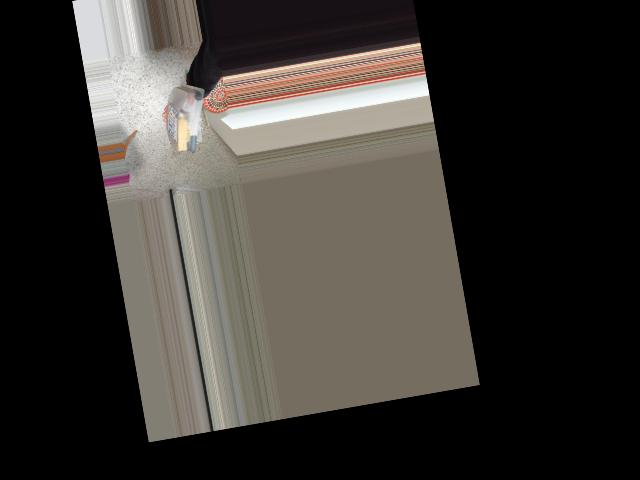cheese: (159, 81, 219, 158)
